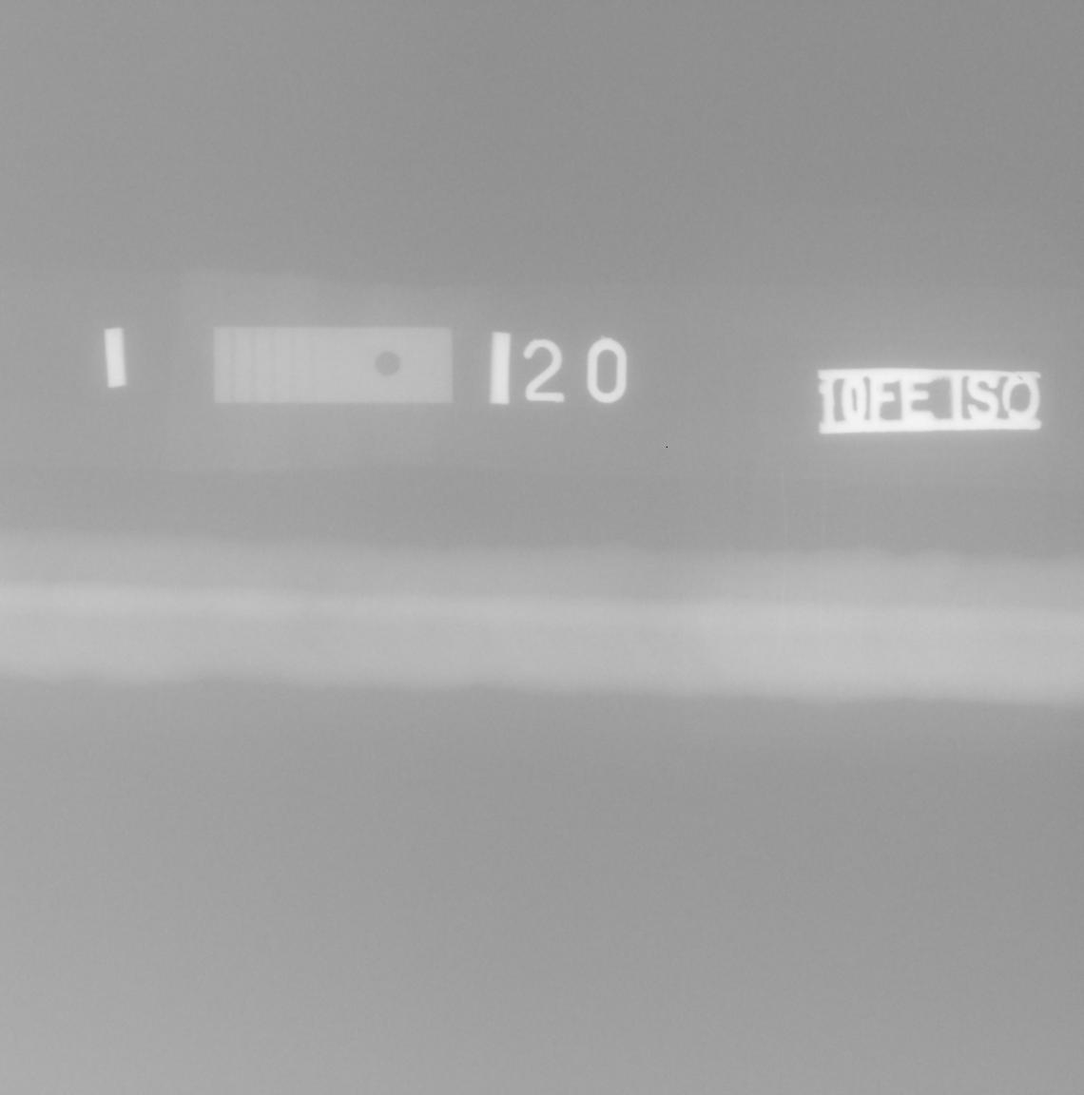Reference Standard 1: (214, 327, 453, 403)
